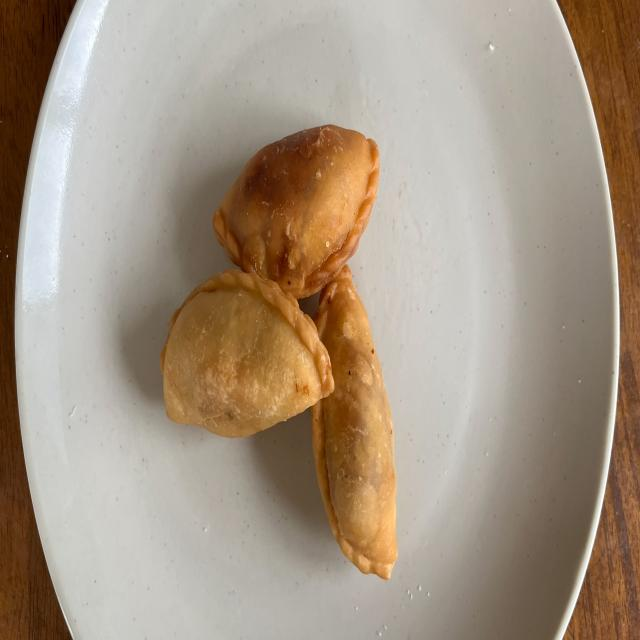karipap: (160, 269, 334, 438), (212, 124, 379, 298), (312, 264, 398, 578)
